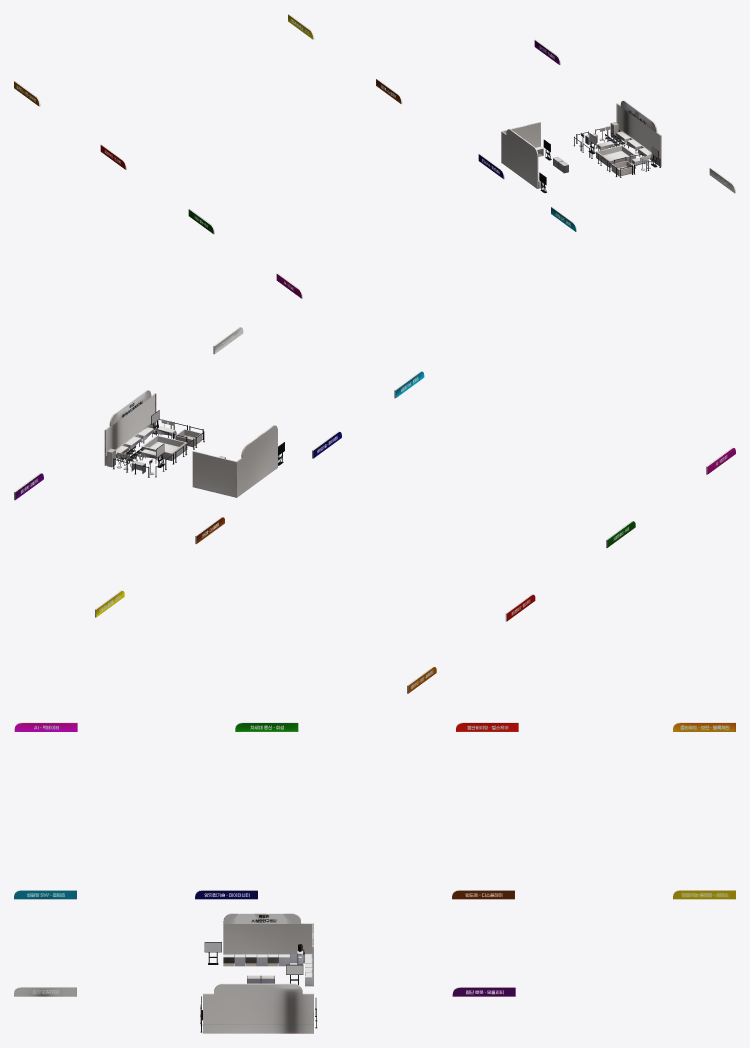
File: Kiosk_SpecialBooths.glb
The picture shows the model from 3 angles, top to bottom: view 1: azimuth 30°, elevation 25°; view 2: azimuth 150°, elevation 25°; view 3: azimuth 270°, elevation 25°; orthographic projection. The views are drawn at different scales.
Parts seen in each view (by area): view 1: TV_CNU_1.041; view 2: TV_CNU_1.041; view 3: TV_CNU_1.041.
Boxes of the visible parts, box(x1,y1,x2,y2) form: TV_CNU_1.041: box(14, 14, 735, 298); TV_CNU_1.041: box(14, 327, 735, 693); TV_CNU_1.041: box(14, 722, 735, 1033).
Size of the model in its own units: 47.04 by 4.14 by 53.95.
Materials: 1 (1 with a texture image).
